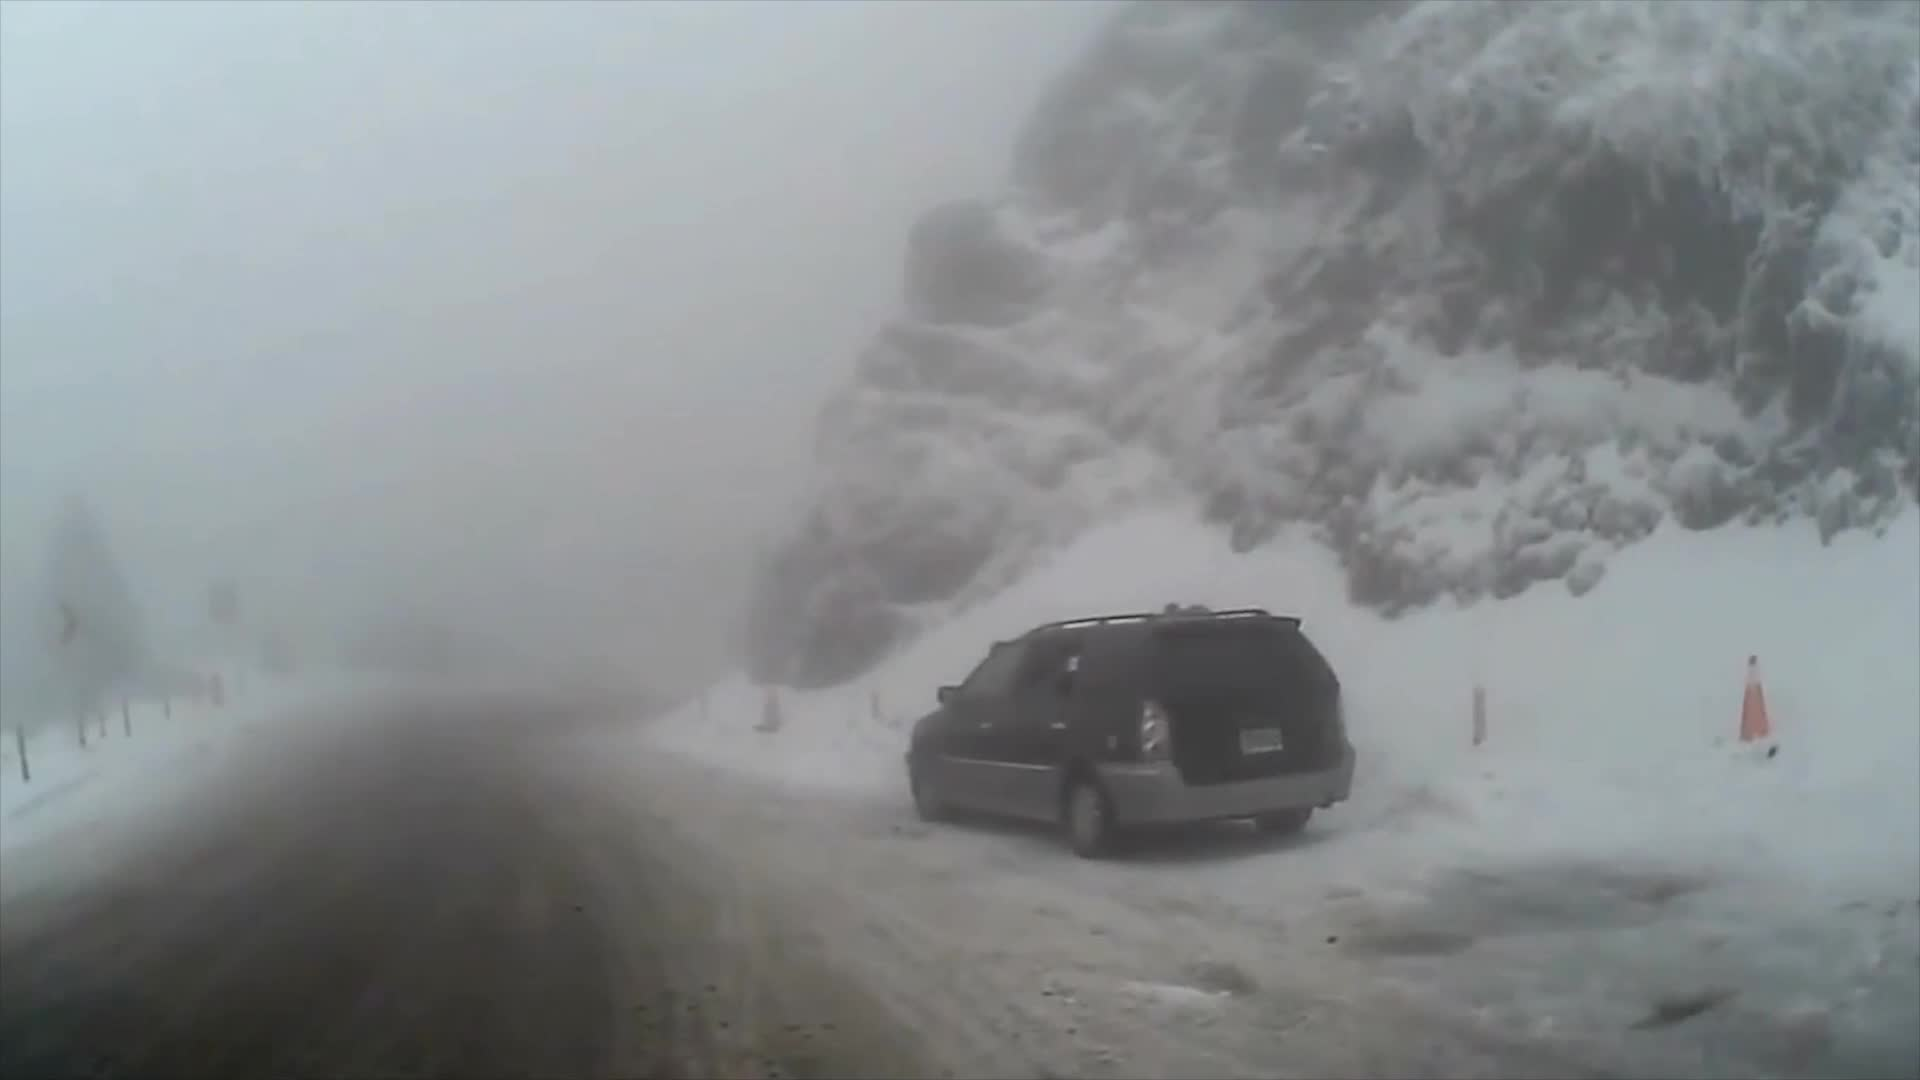vehicle: (902, 603, 1360, 857)
